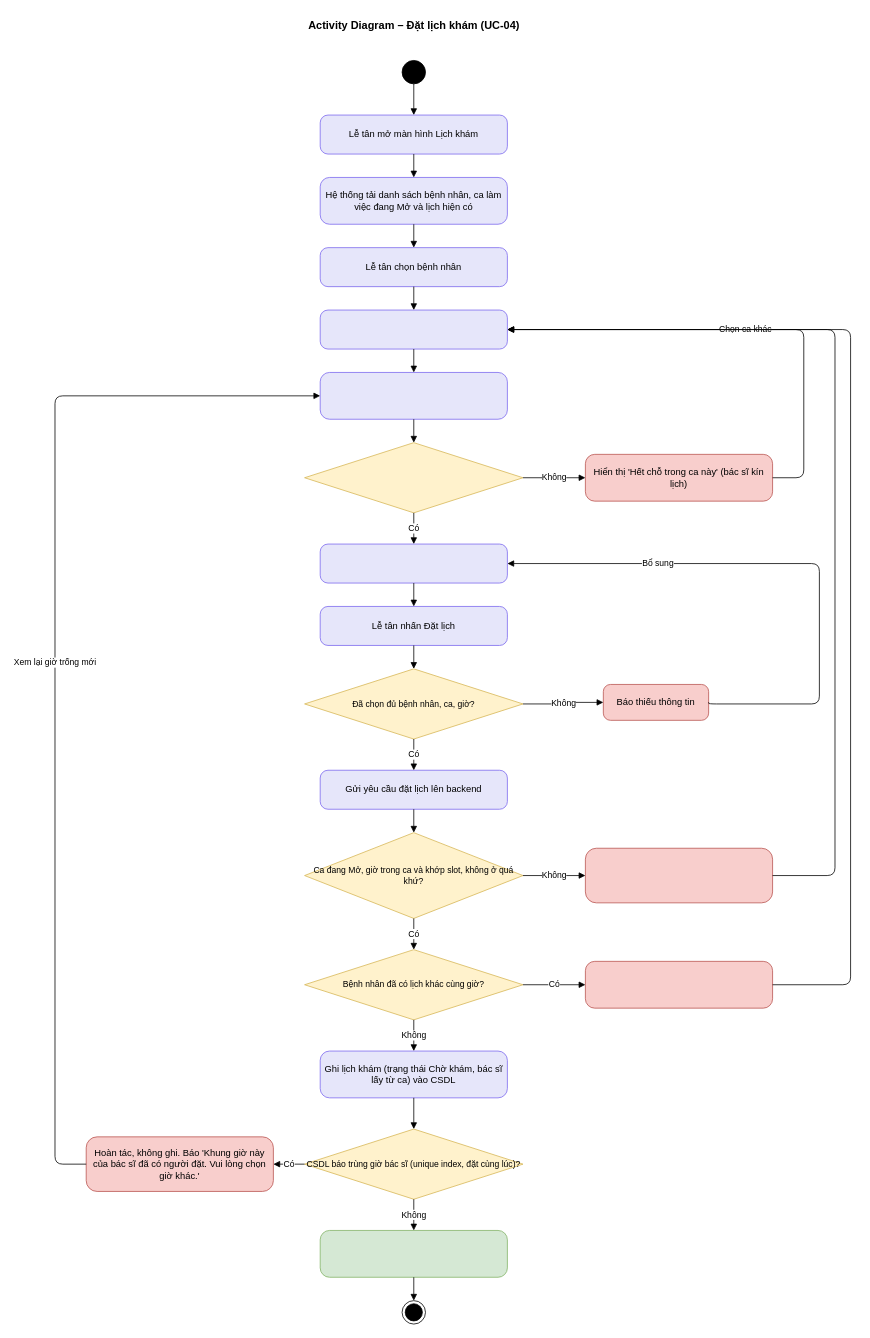
This 870x1338 diagram has some shape labels left out. The centre of each missing label's shape, as x and y in pixels:
Báo 'Bệnh nhân đã có một lịch khám khác vào đúng giờ này': (679,984)
Báo lỗi: ca đã đóng / giờ ngoài ca / lệch khung slot / thời điểm đã qua: (679,875)
Còn giờ trống?: (413,477)
Hệ thống tính giờ trống của ca (trừ slot đã đặt và slot đã qua): (413,395)
Lễ tân chọn ca làm việc (ngày, bác sĩ): (413,329)
Lễ tân chọn giờ khám, nhập lý do khám (không bắt buộc): (413,563)
Trả mã LKxxx, làm mới danh sách, thông báo 'Đã đặt lịch LKxxx': (413,1253)
